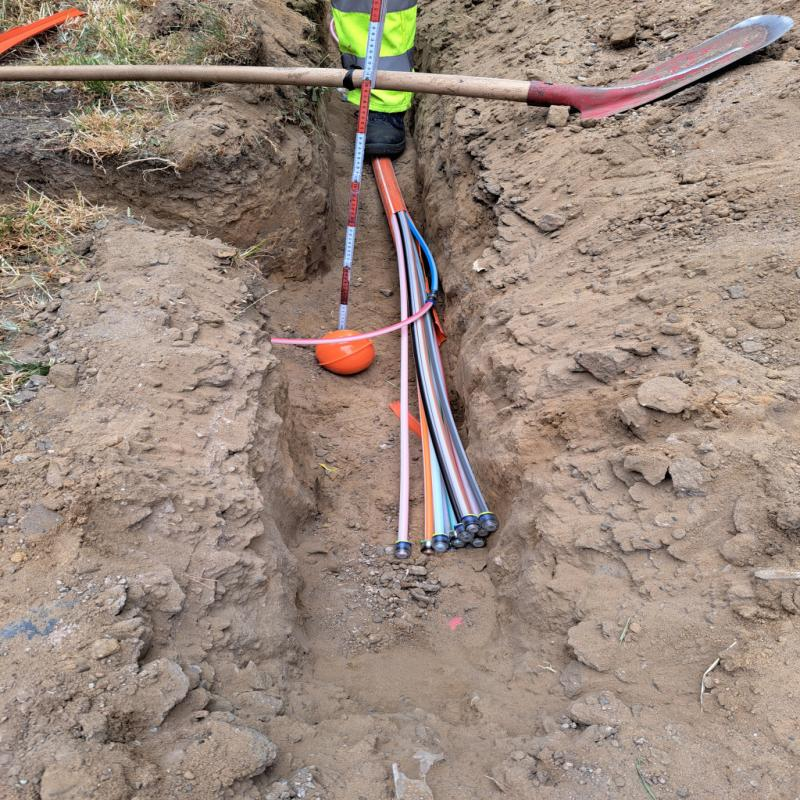Kugelmarker: (314, 329, 374, 375)
Orang-Speednetrohrchen: (372, 158, 438, 306)
